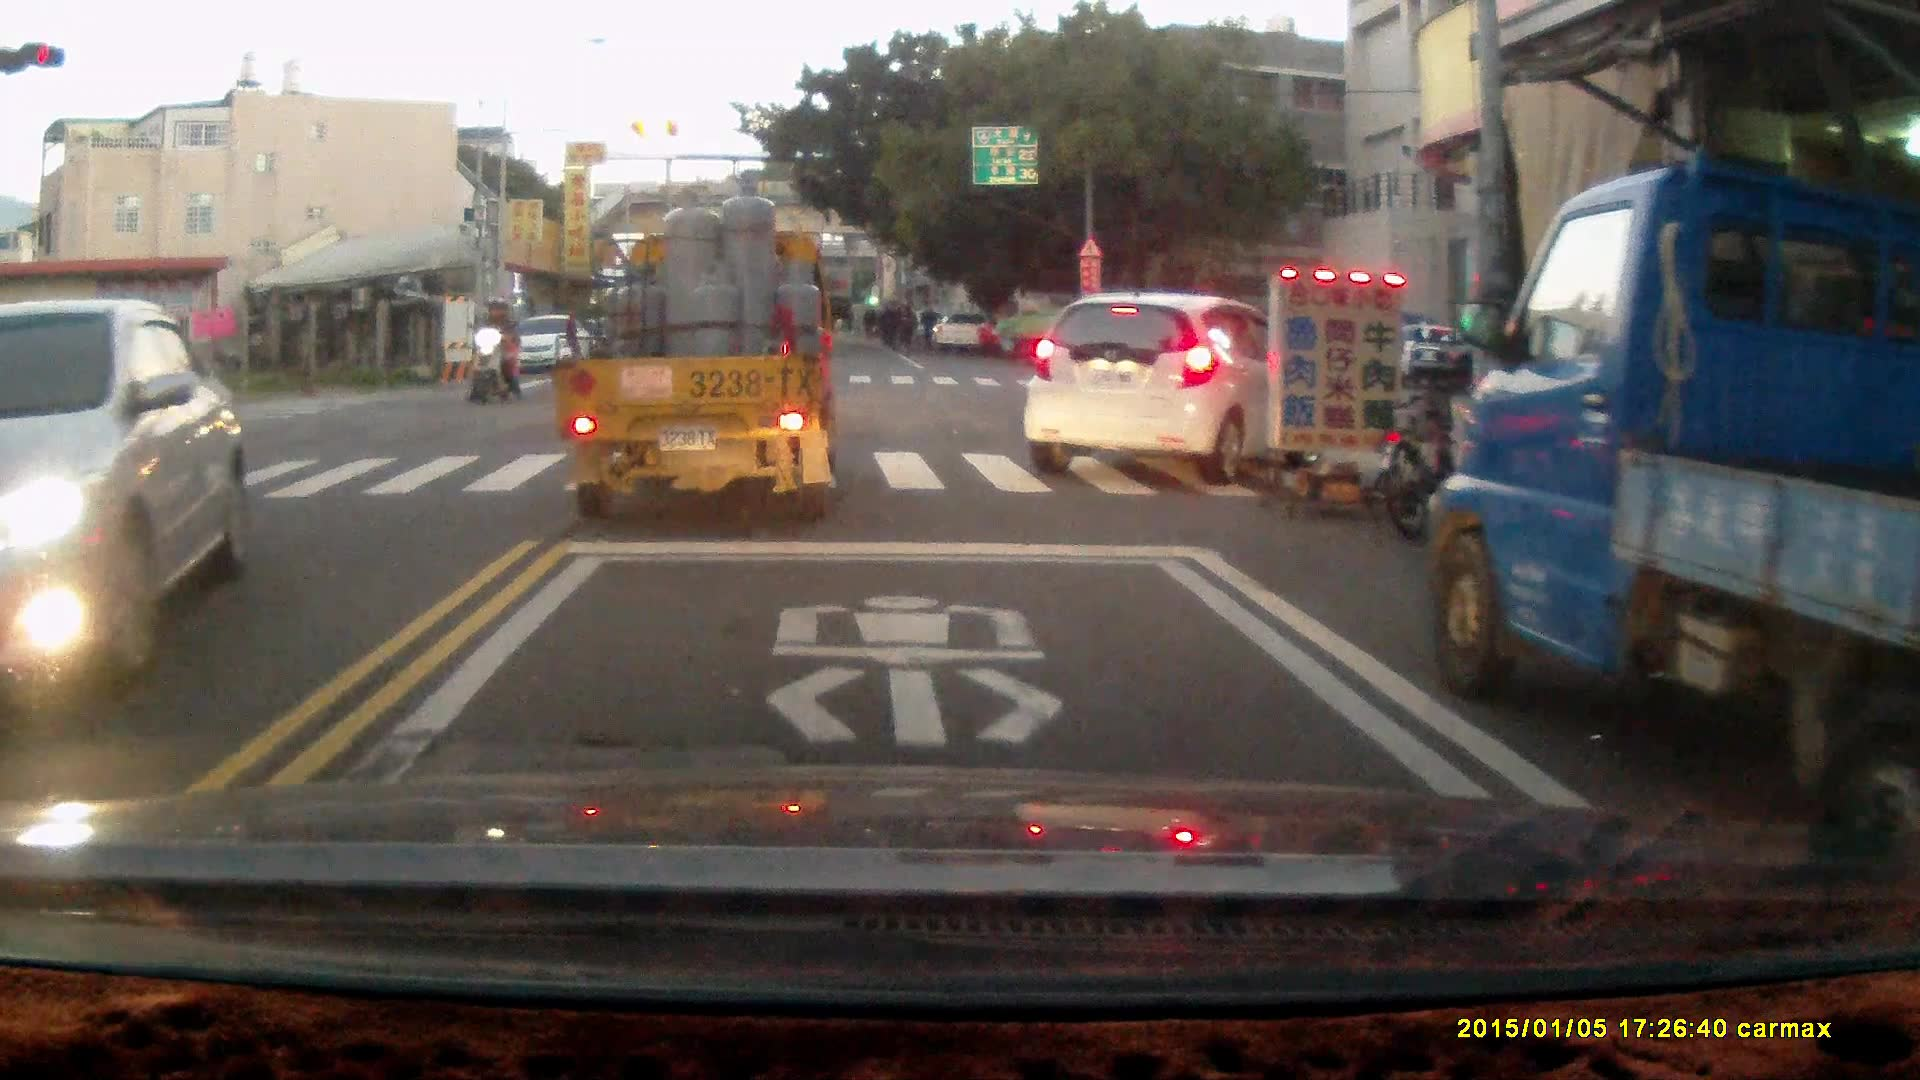rider: (466, 299, 520, 404)
vehicle: (1416, 166, 1920, 817), (1, 296, 244, 725), (553, 181, 844, 523), (1020, 287, 1298, 469), (507, 312, 588, 379)
